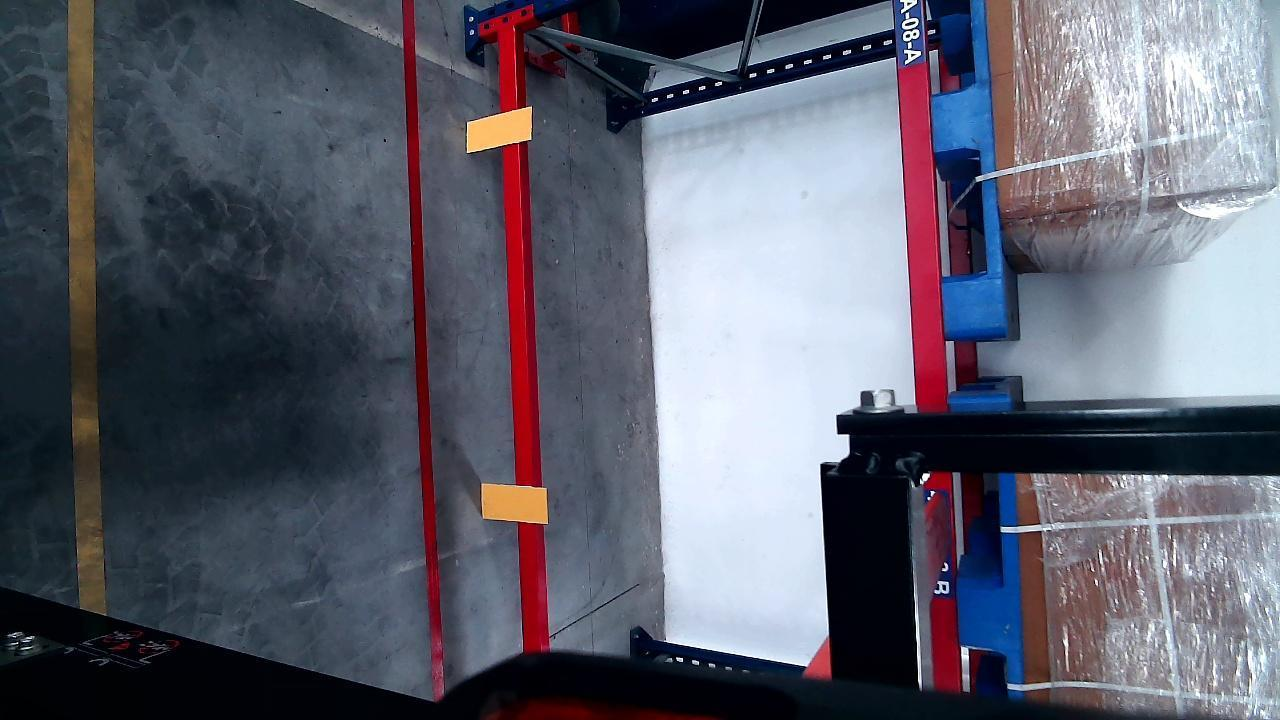h_rack: (496, 19, 541, 660), (891, 0, 943, 392)
orange_strip: (464, 107, 532, 153), (480, 482, 547, 523)
red_line: (403, 5, 441, 696)
small_pallet: (922, 0, 1007, 339), (950, 423, 1027, 694)
yellow_line: (66, 0, 102, 614)
